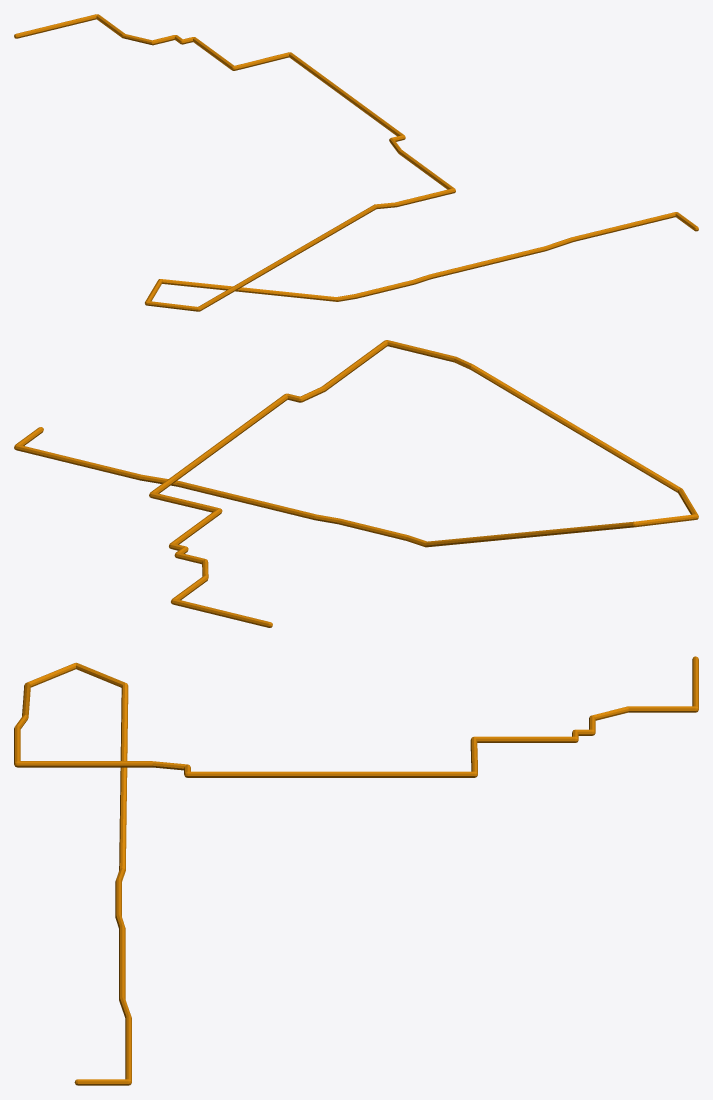
3 renders of one model, top to bottom at view 1: azimuth 30°, elevation 25°; view 2: azimuth 150°, elevation 25°; view 3: azimuth 270°, elevation 25°, orthographic. The views are drawn at different scales.
Bounding box in the file's own units: 2402 × 520 × 2028.
